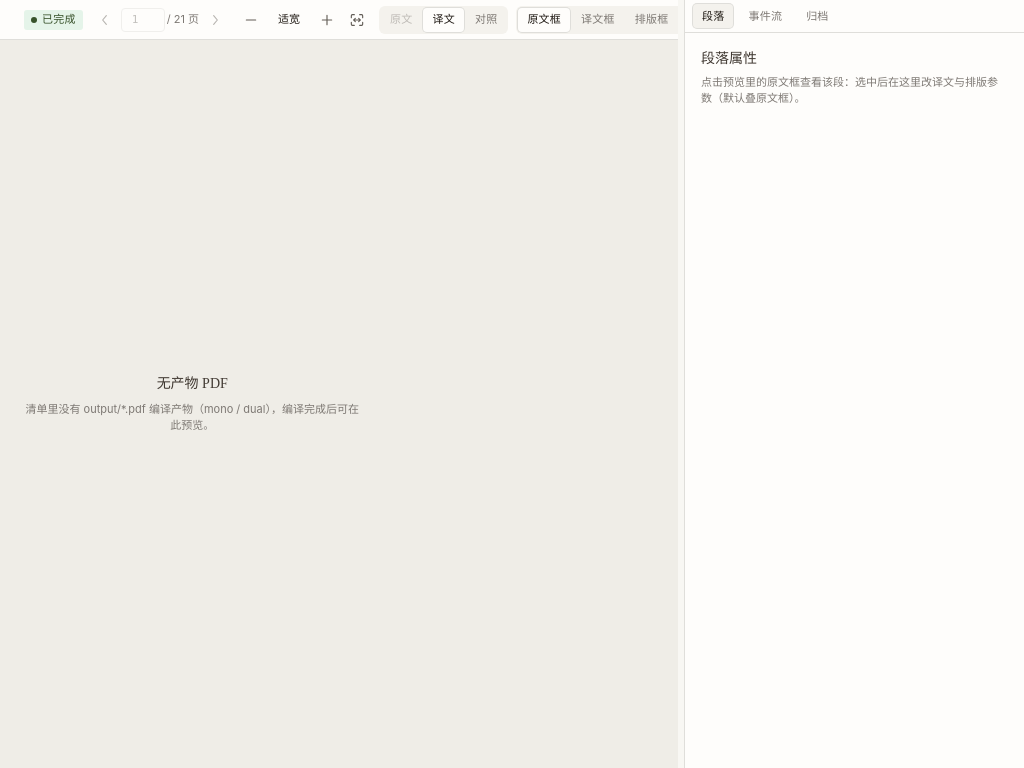
Scenario: 工作台（中栏预览 + 右栏检查器） › 工作台（旧 translate 链接也落到这里）的右侧面板：段落编辑器 + 事件流 + 归档（W10/W12）
Check: the text "无产物 PDF" is shown, box [157,376,228,391]
Check: the element showing "段落属性 点击预览里的原文框查看该段：选中后在这里改译文与排版参数（默认叠原文框）。" is shown, box [701,51,998,104]
Click the tab "事件流" at (765, 16), box [740,4,791,28]
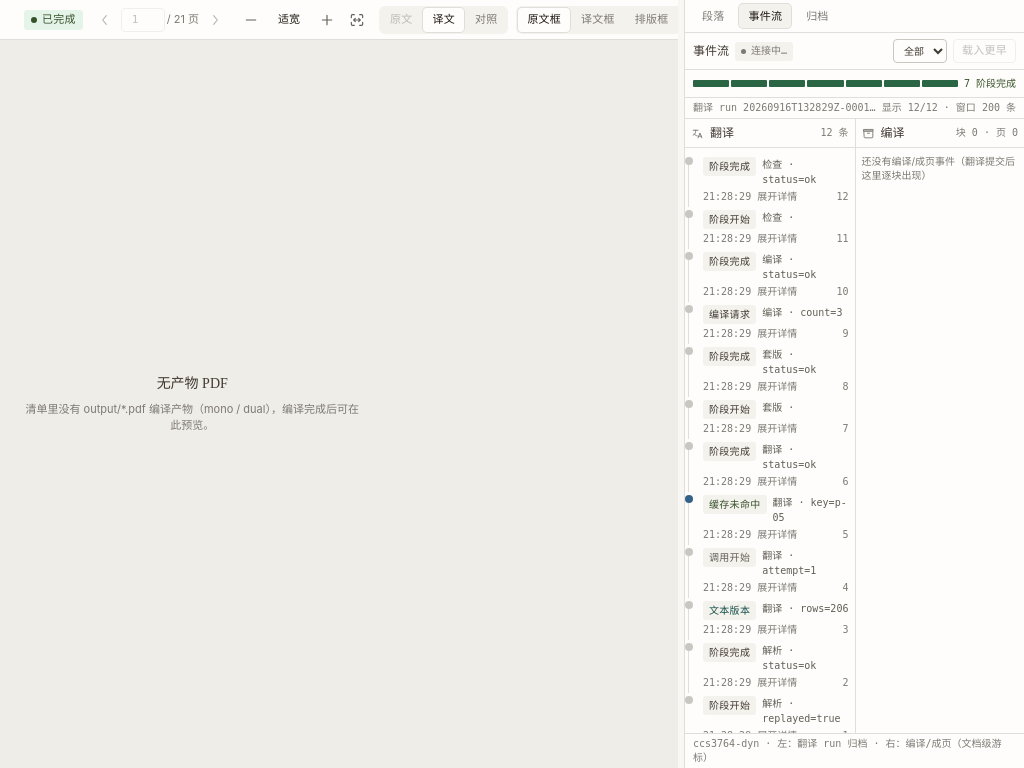
Check: the element named "事件流" is shown, box [685,33,1023,767]
// 归档也是这个面板的 tab：切过去直接看到导出/下载入口 + 摘要 + 完整版本列表
Click the tab "归档" at (817, 16), box [797,4,838,28]
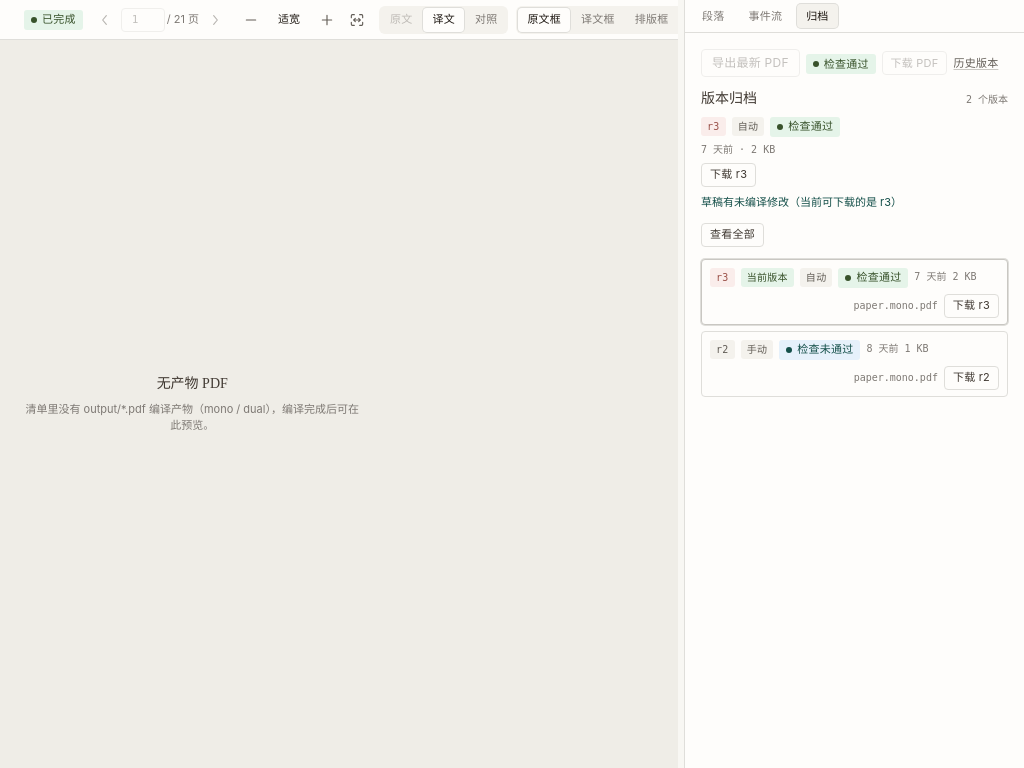
Check: the text "2 个版本" is shown, box [966,93,1008,107]
Check: the panel is shown, box [701,49,1008,396]
Check: the button "导出最新 PDF" is shown, box [701,49,800,77]
